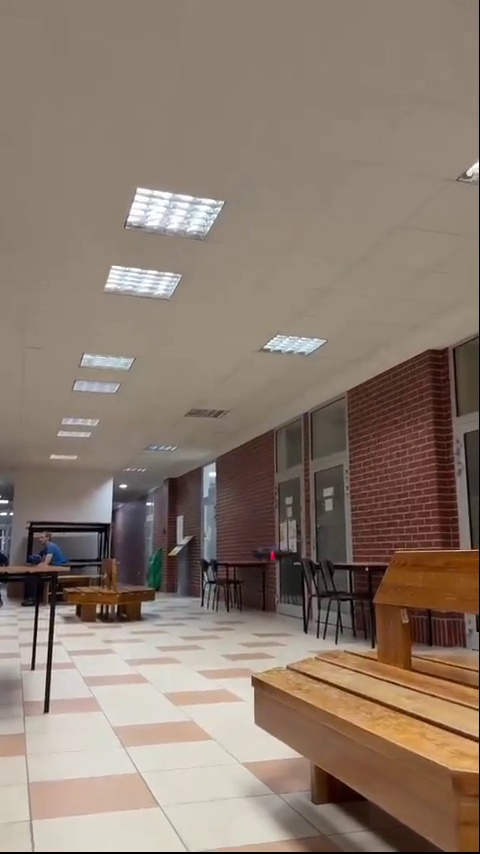drone: (251, 541, 295, 566)
no vest: (26, 526, 69, 581)
